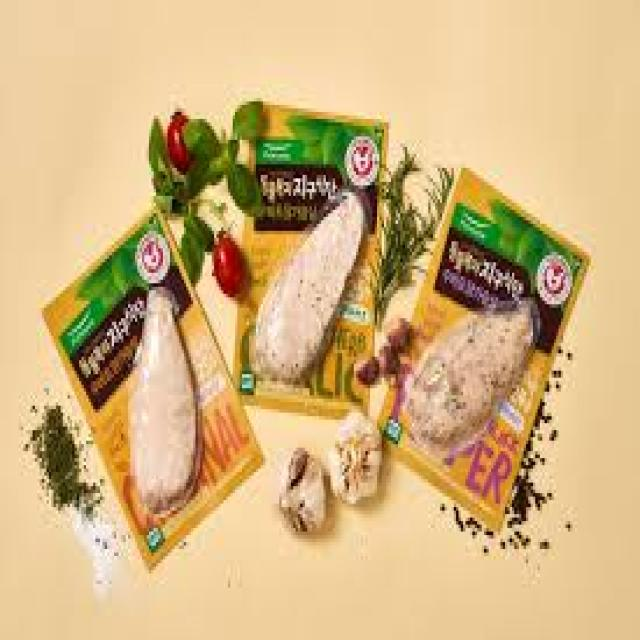chicken: (400, 291, 543, 465), (250, 192, 371, 388), (128, 287, 213, 525)
